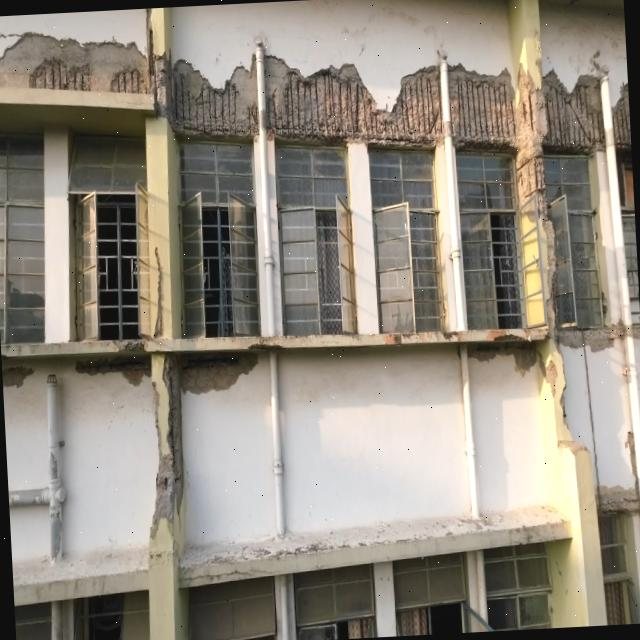Corrosion stain: (487, 330, 510, 341), (384, 334, 401, 344)
Incomplete Plaster Work: (181, 354, 258, 394), (468, 342, 536, 374), (76, 357, 151, 385), (558, 324, 623, 351), (2, 366, 34, 387)
Spalling: (509, 0, 556, 338), (266, 56, 413, 143), (148, 353, 188, 640), (169, 60, 258, 137), (450, 66, 515, 146), (543, 71, 604, 154), (380, 66, 442, 145), (513, 63, 546, 202), (541, 339, 573, 450), (30, 59, 92, 91), (598, 485, 640, 513), (613, 84, 631, 149), (111, 70, 146, 93)
pollution -moisture induced blackening: (116, 339, 144, 351), (443, 332, 458, 339)
